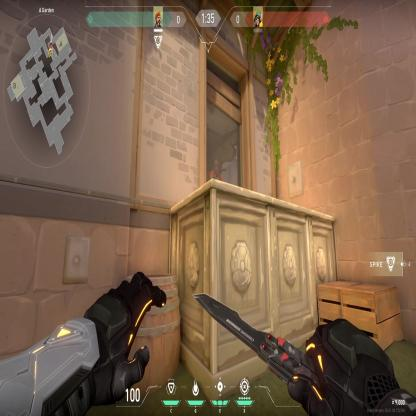enemy: (208, 156, 223, 184)
